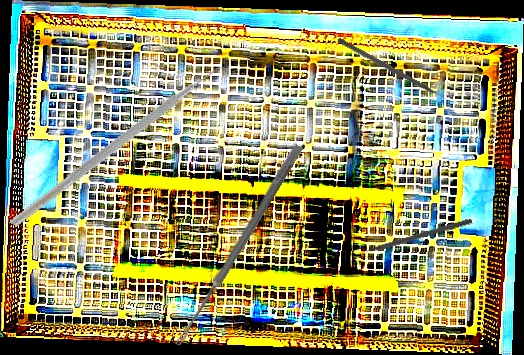Chopper: (9, 15, 241, 282)
Hook Surgical: (336, 37, 451, 105)
Pusher: (350, 216, 473, 259)
Surgical Spoon: (173, 142, 304, 349)
